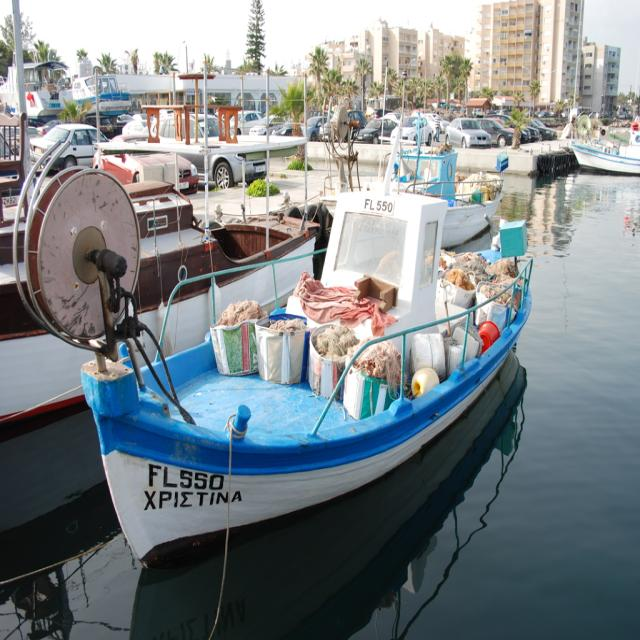Boat: (0, 58, 535, 576), (572, 136, 640, 174)
